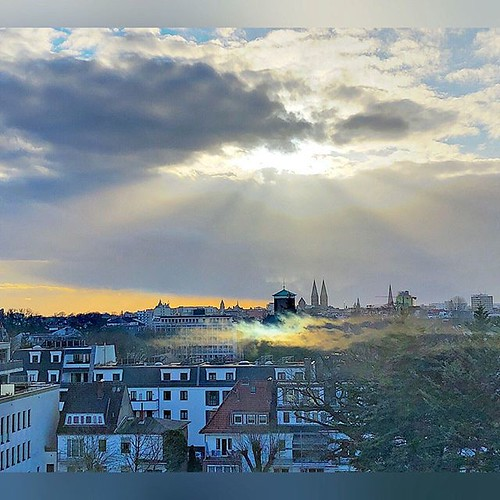building: (103, 359, 304, 434), (215, 371, 356, 476), (58, 379, 186, 477), (1, 374, 62, 471), (150, 312, 246, 364), (17, 345, 106, 387)
sky: (3, 1, 500, 302)
tree: (298, 307, 410, 472), (387, 307, 499, 472)
